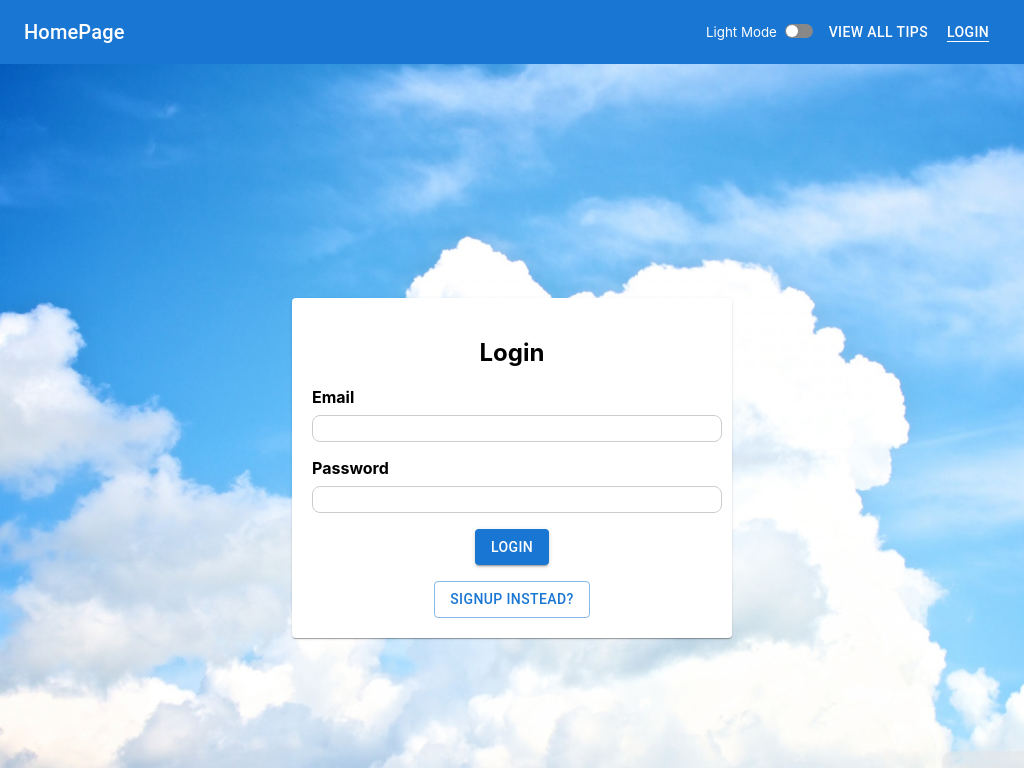
Test: Authentication › Toggles to the sign-up form
Click the button "SignUp instead?".
click(512, 600)  # box [434, 581, 590, 618]
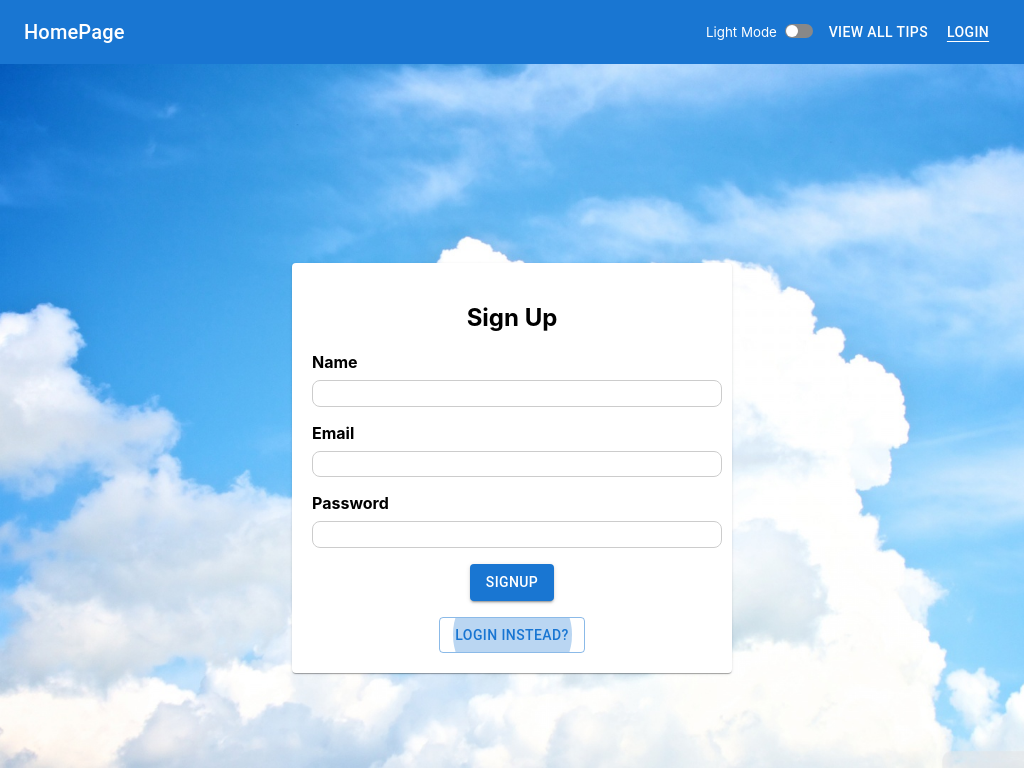
Check: the heading "Sign Up" is shown, box [467, 303, 557, 332]
Check: the text "Name" is shown, box [312, 352, 712, 372]
Check: the button "SIGNUP" is shown, box [470, 564, 554, 601]
